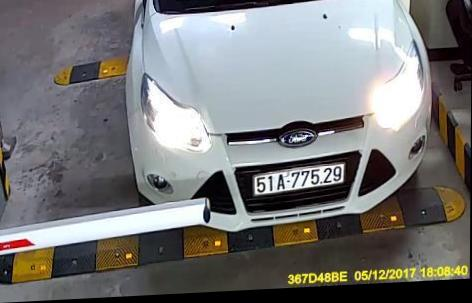License_Plate: (242, 163, 351, 195)
